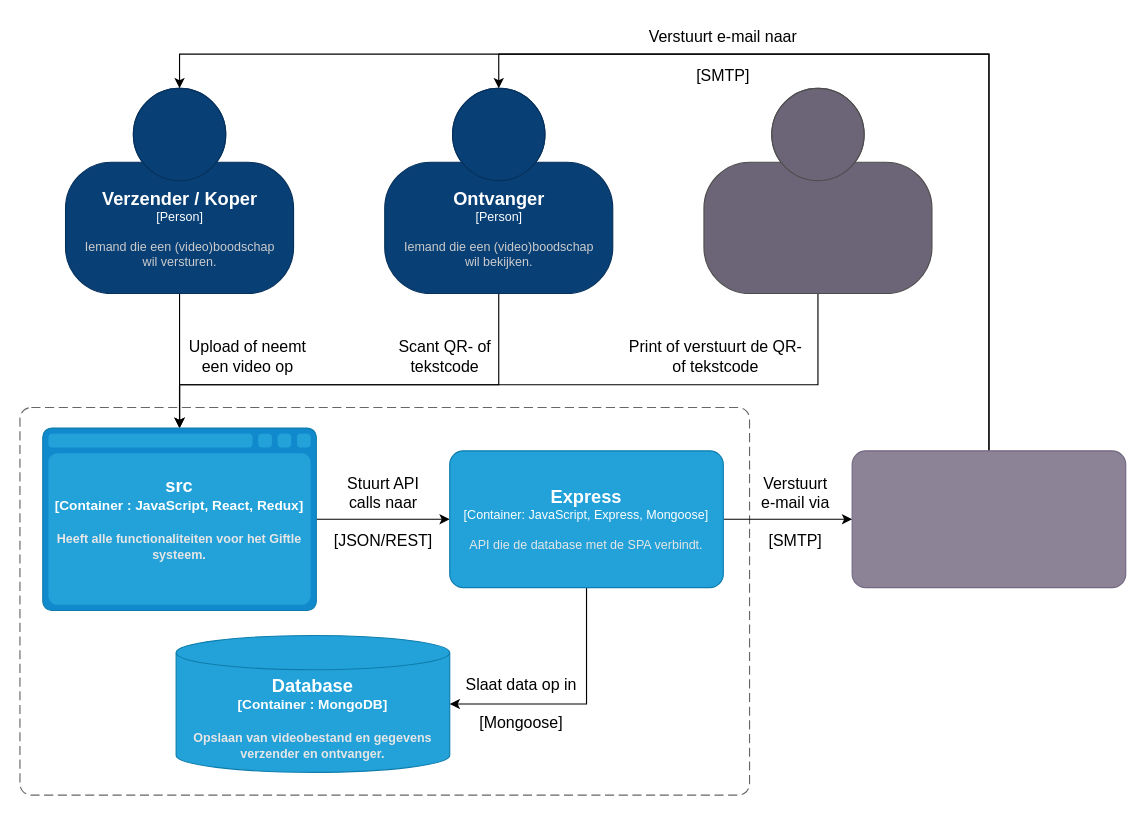
Some shapes in this 1146 by 815 pixel diagram are drawn without their labels. The box of each missing label's shape, as (x1, y1, x2, y2) in pixels:
Giftle [Software System]: (19, 406, 750, 795)
Google SMTP [Software System] SMTP Service voor het mailen.: (851, 450, 1126, 588)
Magazijnmedewerker [Person] Magazijnmedewerker voor de QR-code uitprinten.: (703, 87, 932, 294)
